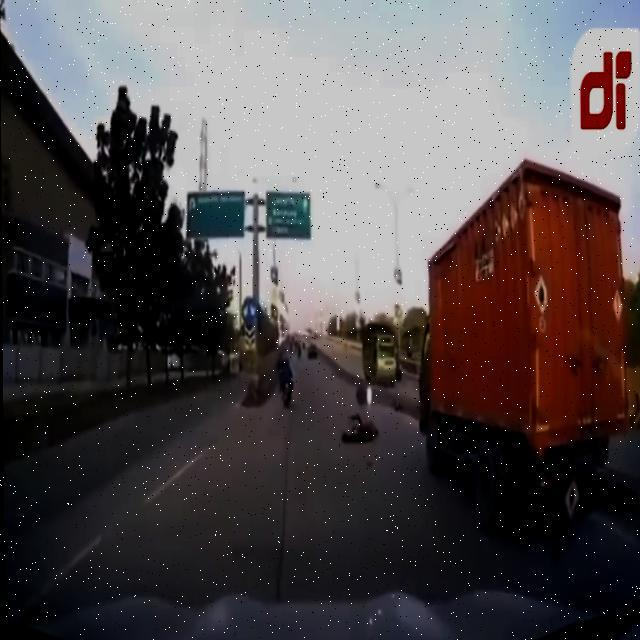multiple_accident: (253, 307, 392, 463)
normal: (395, 190, 640, 552)
